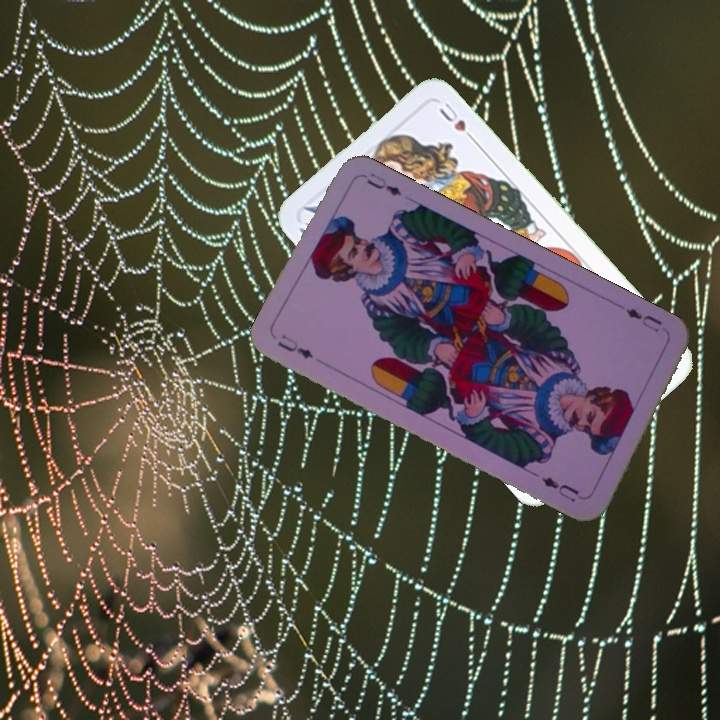EU: (273, 330, 316, 362), (621, 304, 665, 335)
